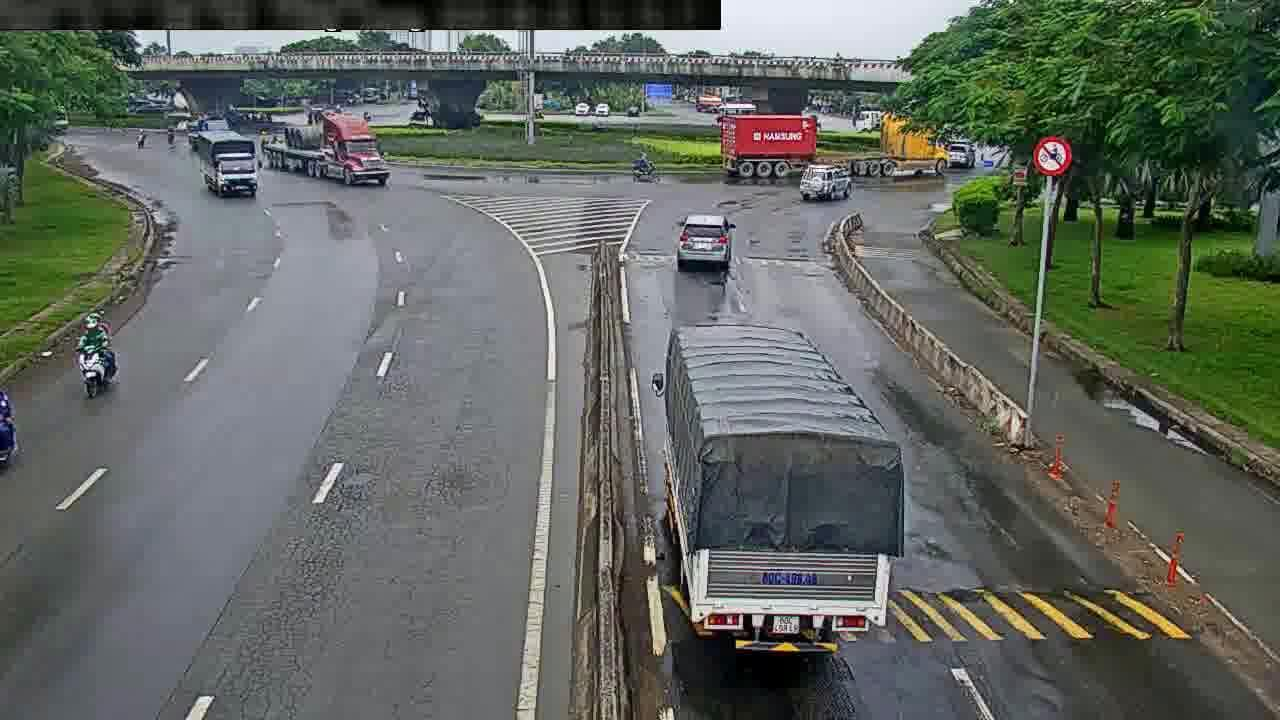car: (672, 209, 736, 273), (798, 161, 855, 203)
container: (649, 320, 912, 651), (716, 108, 952, 180), (257, 106, 395, 189), (198, 125, 267, 199)
motorbike: (86, 308, 115, 399), (631, 153, 662, 182)
